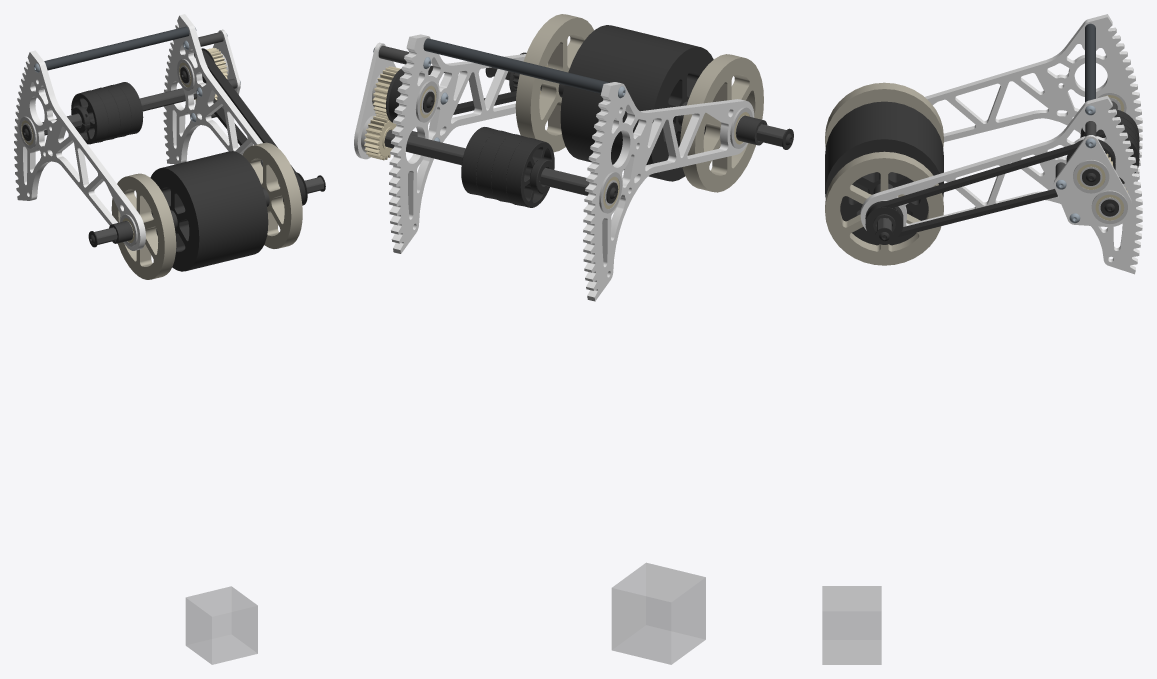
The picture shows the model from 3 angles, left to right: view 1: azimuth 30°, elevation 25°; view 2: azimuth 150°, elevation 25°; view 3: azimuth 270°, elevation 25°; orthographic projection. The views are drawn at different scales.
Parts seen in each view (by area): view 1: Hood Gear Plate (×2), 4" Solid Urethane Wheel (45A, 1.5" Wide, 1/2" Hex Bore) (×2), Steel Flywheel (×4), Origin Cube, 2" Compliant Wheel (60A, 3/4" Wide, 1/2" Hex Stretch Bore) (×4), 6.25 in. Round Spacer, 95T 5M 9mm Wide Belt, 8.25 in. Rounded Hex Shaft, Hood Roller Plate, 9.875 in. Rounded Hex Shaft; view 2: Hood Gear Plate (×2), Steel Flywheel (×4), 4" Solid Urethane Wheel (45A, 1.5" Wide, 1/2" Hex Bore) (×2), Origin Cube, 2" Compliant Wheel (60A, 3/4" Wide, 1/2" Hex Stretch Bore) (×4), 6.25 in. Round Spacer, 8.25 in. Rounded Hex Shaft, Hood Roller Plate, 24t Aluminum Spur Gear (20 DP, 1/2" Hex Bore), 95T 5M 9mm Wide Belt, 28t Aluminum Spur Gear (20 DP, 1/2" Hex Bore); view 3: Hood Gear Plate (×2), Steel Flywheel (×4), 4" Solid Urethane Wheel (45A, 1.5" Wide, 1/2" Hex Bore) (×2), Origin Cube, 95T 5M 9mm Wide Belt, Hood Roller Plate, 1/2" Rounded Hex (13.75mm) ID Bearing (1.125" OD, 0.313" WD, (×2), 6.25 in. Round Spacer, 18t Custom HTD 5mm Pulley (0.375" Wide, *0.505" Hex Bore).
Part boxes in pixels (box(x1,y1,x2,y2)): Hood Gear Plate (×2): box(14, 14, 262, 250); 4" Solid Urethane Wheel (45A, 1.5" Wide, 1/2" Hex Bore) (×2): box(150, 151, 268, 271); Steel Flywheel (×4): box(111, 142, 302, 279); Origin Cube: box(186, 586, 257, 664); 2" Compliant Wheel (60A, 3/4" Wide, 1/2" Hex Stretch Bore) (×4): box(71, 82, 143, 144); 6.25 in. Round Spacer: box(44, 26, 189, 70); 95T 5M 9mm Wide Belt: box(202, 49, 305, 204); 8.25 in. Rounded Hex Shaft: box(42, 88, 197, 135); Hood Roller Plate: box(213, 29, 240, 94); 9.875 in. Rounded Hex Shaft: box(94, 177, 323, 244); Hood Gear Plate (×2): box(389, 34, 754, 301); Steel Flywheel (×4): box(515, 14, 763, 192); 4" Solid Urethane Wheel (45A, 1.5" Wide, 1/2" Hex Bore) (×2): box(560, 25, 713, 181); Origin Cube: box(612, 563, 705, 664); 2" Compliant Wheel (60A, 3/4" Wide, 1/2" Hex Stretch Bore) (×4): box(461, 127, 554, 207); 6.25 in. Round Spacer: box(423, 38, 609, 93); 8.25 in. Rounded Hex Shaft: box(384, 130, 589, 195); Hood Roller Plate: box(354, 42, 395, 159); 24t Aluminum Spur Gear (20 DP, 1/2" Hex Bore): box(364, 114, 396, 160); 95T 5M 9mm Wide Belt: box(388, 65, 516, 120); 28t Aluminum Spur Gear (20 DP, 1/2" Hex Bore): box(372, 66, 400, 116); Hood Gear Plate (×2): box(860, 14, 1142, 274); Steel Flywheel (×4): box(825, 82, 943, 265); 4" Solid Urethane Wheel (45A, 1.5" Wide, 1/2" Hex Bore) (×2): box(825, 101, 943, 245); Origin Cube: box(822, 586, 881, 664); 95T 5M 9mm Wide Belt: box(866, 141, 1114, 236); Hood Roller Plate: box(1053, 135, 1131, 226); 1/2" Rounded Hex (13.75mm) ID Bearing (1.125" OD, 0.313" WD, (×2): box(1073, 160, 1127, 224); 6.25 in. Round Spacer: box(1085, 23, 1095, 102); 18t Custom HTD 5mm Pulley (0.375" Wide, *0.505" Hex Bore): box(865, 201, 903, 239).
Bounding box in the file's own units: 0.2568 × 0.5625 × 0.2742.
